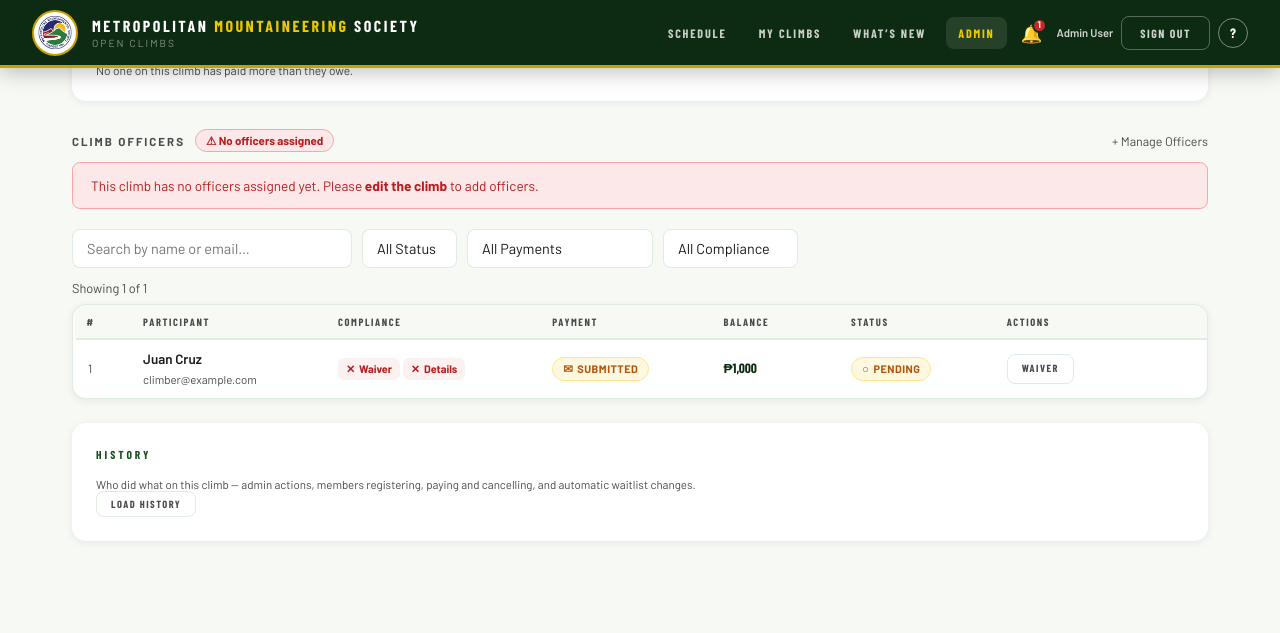
Test: Admin ClimbDetail › flags an amount paid an admin edited away from the recorded payments
(page scrolled)
Click the text "Juan Cruz": (172,360) [143, 350, 202, 370]
(page scrolled)
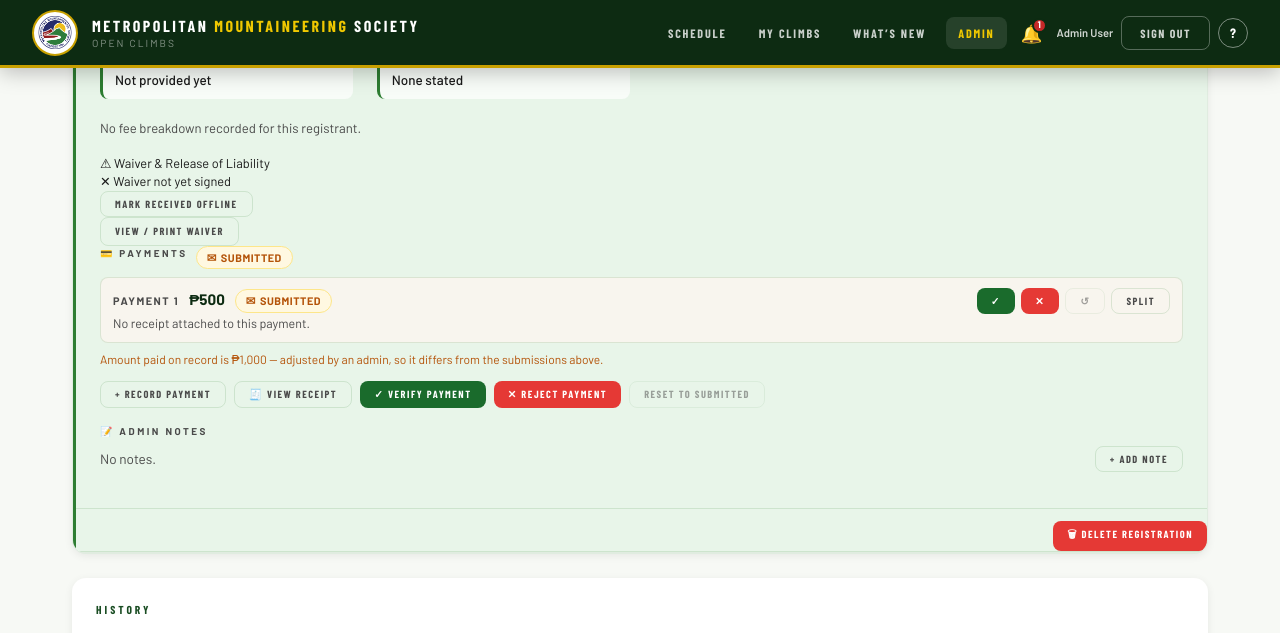
Check: the text "adjusted by an admin" is shown, box [267, 352, 603, 366]
